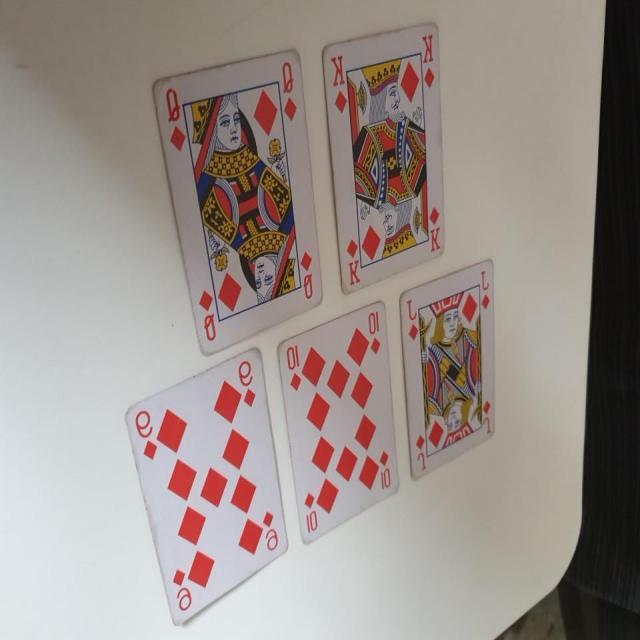10 of diamonds: (275, 296, 402, 549)
9 of diamonds: (124, 345, 289, 626)
jack of diamonds: (398, 256, 498, 483)
king of diamonds: (322, 18, 449, 300)
queen of diamonds: (152, 46, 323, 359)
